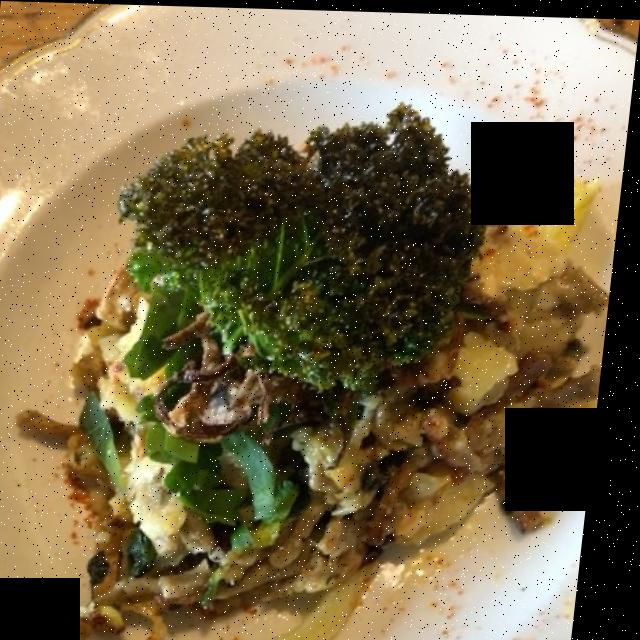mixed-vegetables: (79, 117, 474, 557)
